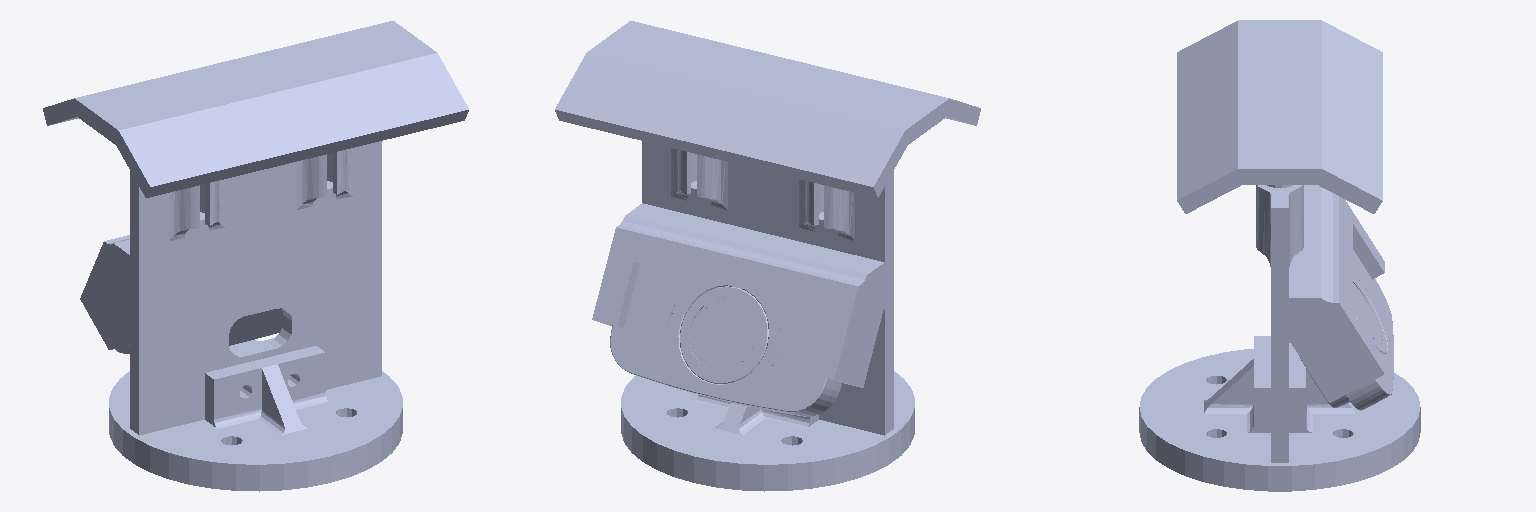
robot.urdf — rigid_fixture:
<?xml version="1.0" encoding="utf-8"?>
<!-- This URDF was automatically created by SolidWorks to URDF Exporter! Originally created by [author] ([email redacted]) 
     Commit Version: 1.5.1-0-g916b5db  Build Version: 1.5.7152.31018
     For more information, please see http://wiki.ros.org/sw_urdf_exporter -->
<robot
  name="rigid_fixture">
  <link
    name="base_link1">
    <inertial>
      <origin
        xyz="-1.49084244949194E-10 0.00211072676200116 0.029671248012018"
        rpy="0 0 0" />
      <mass
        value="0.0989605790169384" />
      <inertia
        ixx="3.54057648984075E-05"
        ixy="-1.22869867546122E-13"
        ixz="2.65187431869048E-13"
        iyy="6.36956475462506E-05"
        iyz="3.84139315008309E-07"
        izz="6.29725463628788E-05" />
    </inertial>
    <visual>
      <origin
        xyz="0 0 0"
        rpy="0 0 0" />
      <geometry>
        <mesh
          filename="package://rigid_fixture/meshes/base_link1.STL" />
      </geometry>
      <material
        name="">
        <color
          rgba="0.792156862745098 0.819607843137255 0.933333333333333 1" />
      </material>
    </visual>
    <collision>
      <origin
        xyz="0 0 0"
        rpy="0 0 0" />
      <geometry>
        <mesh
          filename="package://rigid_fixture/meshes/base_link1.STL" />
      </geometry>
    </collision>
  </link>
  <link
    name="tip_link">
    <inertial>
      <origin
        xyz="4.9791253758924E-10 2.54231011243E-11 -0.00617173533483847"
        rpy="0 0 0" />
      <mass
        value="0.0329252933742976" />
      <inertia
        ixx="9.11742551111513E-06"
        ixy="-6.13798968796412E-16"
        ixz="1.99805965392803E-13"
        iyy="2.71193405333785E-05"
        iyz="7.12320064993324E-15"
        izz="3.49319323213201E-05" />
    </inertial>
    <visual>
      <origin
        xyz="0 0 0"
        rpy="0 0 0" />
      <geometry>
        <mesh
          filename="package://rigid_fixture/meshes/tip_link.STL" />
      </geometry>
      <material
        name="">
        <color
          rgba="0.792156862745098 0.819607843137255 0.933333333333333 1" />
      </material>
    </visual>
    <collision>
      <origin
        xyz="0 0 0"
        rpy="0 0 0" />
      <geometry>
        <mesh
          filename="package://rigid_fixture/meshes/tip_link.STL" />
      </geometry>
    </collision>
  </link>
  <joint
    name="rigid_fixture"
    type="fixed">
    <origin
      xyz="0 0 0.106"
      rpy="0 0 0" />
    <parent
      link="base_link1" />
    <child
      link="tip_link" />
    <axis
      xyz="0 0 0" />
  </joint>
  <link
    name="camera_link">
    <inertial>
      <origin
        xyz="8.95321890339446E-06 0.000350790128642562 -0.00737706723562668"
        rpy="0 0 0" />
      <mass
        value="0.0308824472848566" />
      <inertia
        ixx="2.95081939486421E-06"
        ixy="-3.29217720559751E-11"
        ixz="6.49330441952457E-10"
        iyy="1.10631939956228E-05"
        iyz="-2.9373417885962E-09"
        izz="1.27178223303866E-05" />
    </inertial>
    <visual>
      <origin
        xyz="0 0 0"
        rpy="0 0 0" />
      <geometry>
        <mesh
          filename="package://rigid_fixture/meshes/camera_link.STL" />
      </geometry>
      <material
        name="">
        <color
          rgba="0.792156862745098 0.819607843137255 0.933333333333333 1" />
      </material>
    </visual>
    <collision>
      <origin
        xyz="0 0 0"
        rpy="0 0 0" />
      <geometry>
        <mesh
          filename="package://rigid_fixture/meshes/camera_link.STL" />
      </geometry>
    </collision>
  </link>
  <joint
    name="camera_joint"
    type="fixed">
    <origin
      xyz="-3.27928420890758E-05 0.0238231032736582 0.037763454177693"
      rpy="-1.0471975511966 0 0" />
    <parent
      link="base_link1" />
    <child
      link="camera_link" />
    <axis
      xyz="0 0 0" />
  </joint>
</robot>

--- Facts derived from the render (not from the file) ---
The picture shows the robot from 3 angles, left to right: view 1: azimuth 30°, elevation 25°; view 2: azimuth 150°, elevation 25°; view 3: azimuth 270°, elevation 25°; orthographic projection.
Robot: rigid_fixture — 3 links, 2 joints (2 fixed); root link base_link1; default pose: all joints at 0.
Links seen in each view (by area): view 1: base_link1, tip_link, camera_link; view 2: base_link1, tip_link, camera_link; view 3: base_link1, tip_link, camera_link.
Link boxes in pixels (x1,y1,x2,y2): base_link1: [80, 141, 402, 491]; tip_link: [43, 21, 468, 197]; camera_link: [115, 308, 282, 353]; base_link1: [592, 141, 914, 491]; tip_link: [555, 21, 980, 197]; camera_link: [610, 264, 841, 416]; base_link1: [1139, 185, 1420, 491]; tip_link: [1177, 20, 1382, 213]; camera_link: [1300, 250, 1393, 410].
Bounding box of the posed robot: 0.1 × 0.08 × 0.106 m (x, y, z).
Meshes: 3 distinct files referenced, 3 mesh visuals loaded (3 binary STL).